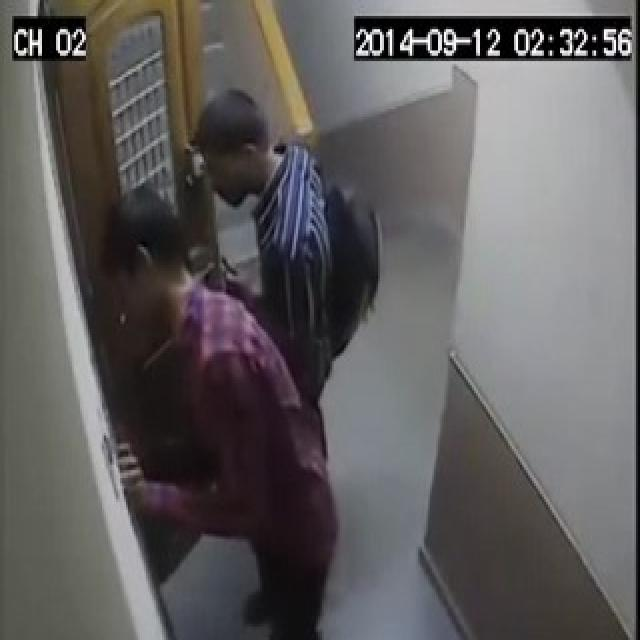burglary: (73, 234, 341, 618)
